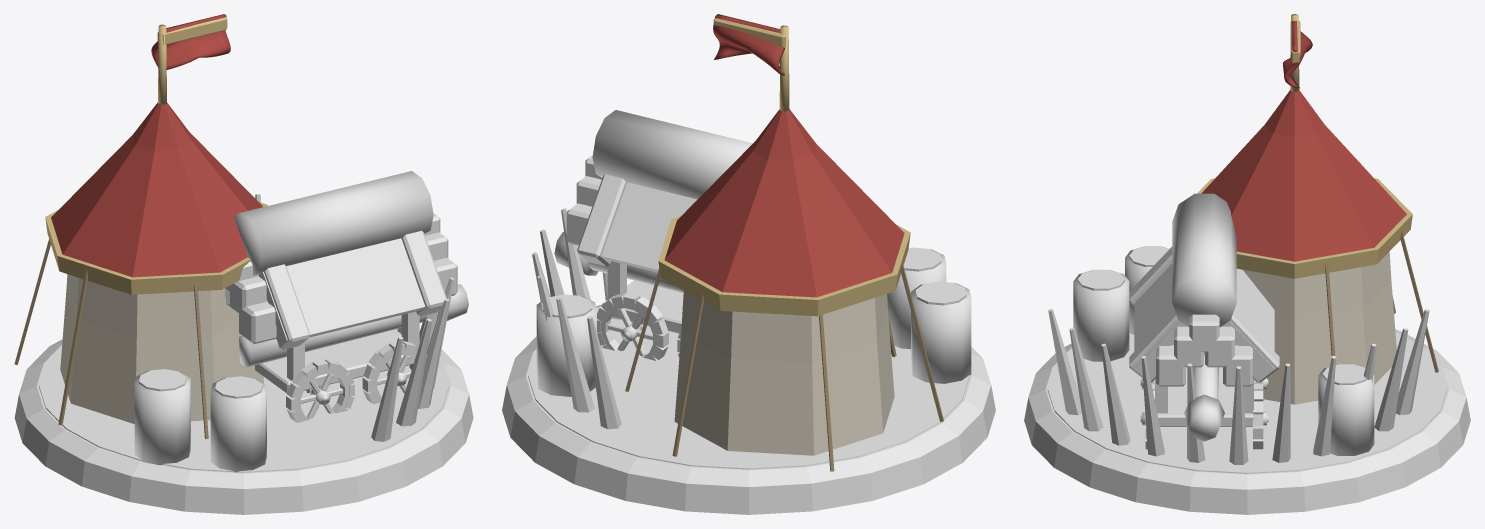
The model's file is pion_siege.fbx.
The picture shows the model from 3 angles, left to right: view 1: azimuth 30°, elevation 25°; view 2: azimuth 150°, elevation 25°; view 3: azimuth 270°, elevation 25°; orthographic projection. The views are drawn at different scales.
Visible parts, largest first — view 1: pion_siege_LOD0; view 2: pion_siege_LOD0; view 3: pion_siege_LOD0.
Boxes of the visible parts, box(x1,y1,x2,y2) form: pion_siege_LOD0: box(14, 14, 473, 514); pion_siege_LOD0: box(502, 14, 995, 514); pion_siege_LOD0: box(1024, 14, 1470, 514).
Size of what is drawn, in the model's own units: 2.08 by 1.94 by 2.08.
